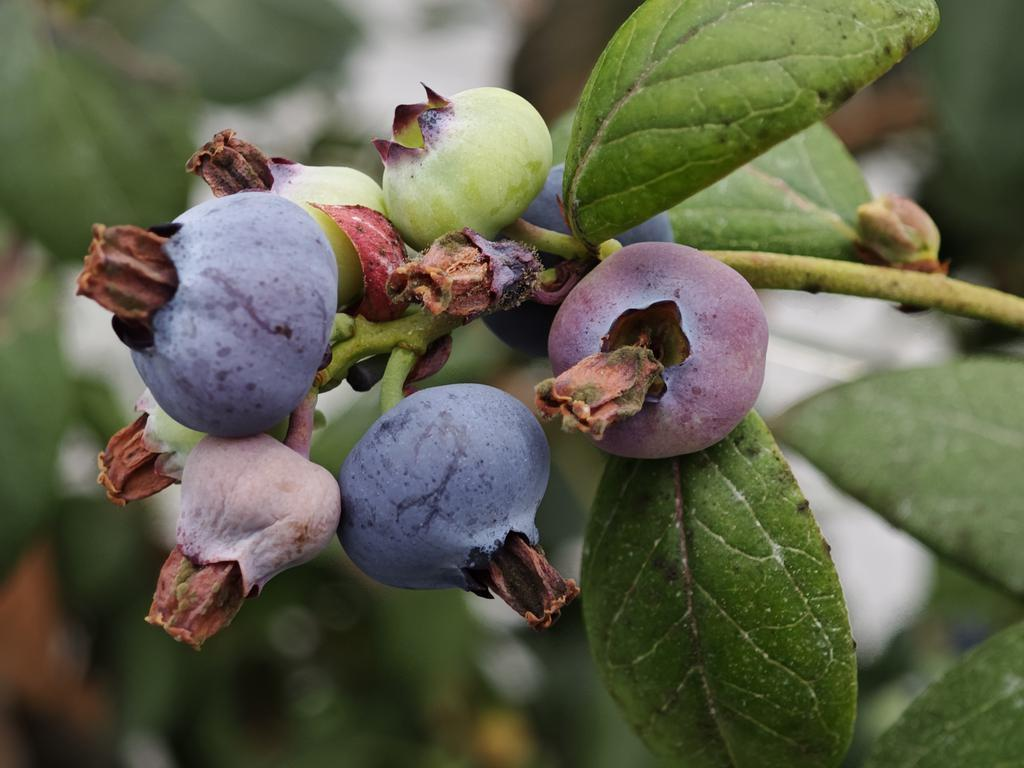RipeBlueBerry: (113, 188, 343, 442), (338, 377, 558, 597)
Semi-RipeBlueBerry: (543, 237, 771, 463)
UnripeBlueBerry: (372, 79, 557, 244)
